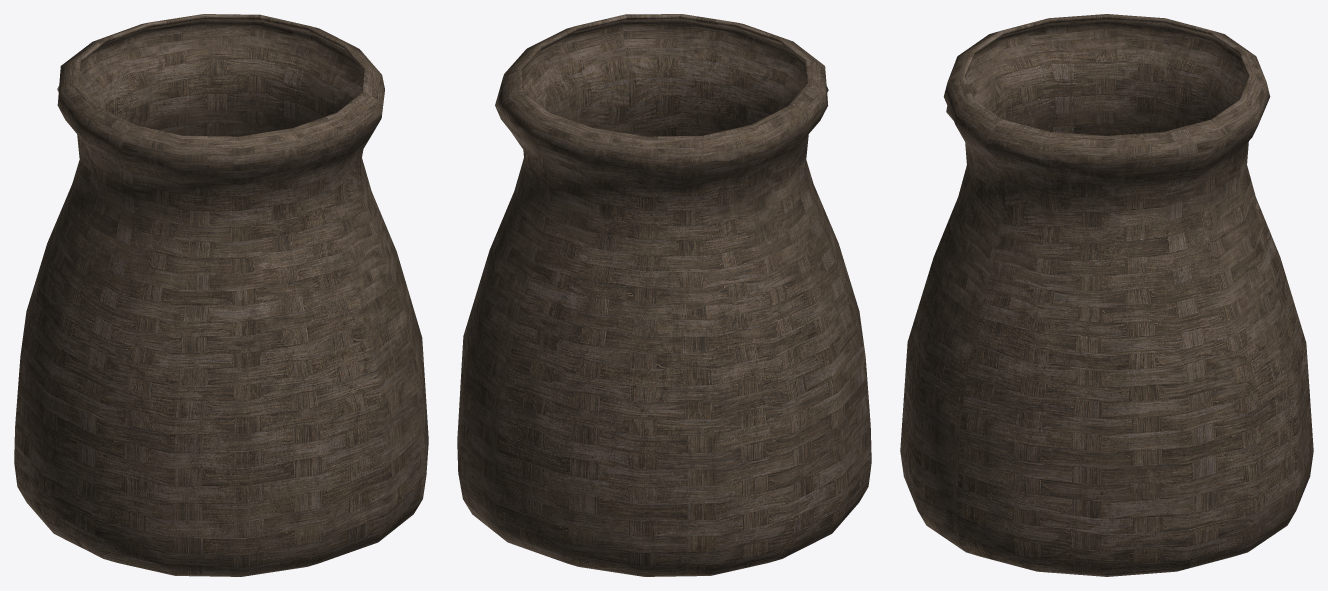
The model's file is SM_basket03.fbx.
The picture shows the model from 3 angles, left to right: view 1: azimuth 30°, elevation 25°; view 2: azimuth 150°, elevation 25°; view 3: azimuth 270°, elevation 25°; orthographic projection.
Visible parts, largest first — view 1: SM_basket03_LOD0; view 2: SM_basket03_LOD0; view 3: SM_basket03_LOD0.
Part boxes in pixels (left/top/right/bottom): SM_basket03_LOD0: left=14, top=14, right=428, bottom=576; SM_basket03_LOD0: left=457, top=14, right=871, bottom=576; SM_basket03_LOD0: left=900, top=14, right=1313, bottom=576.
Size of the model in its own units: 34.95 by 34.95 by 41.16.
